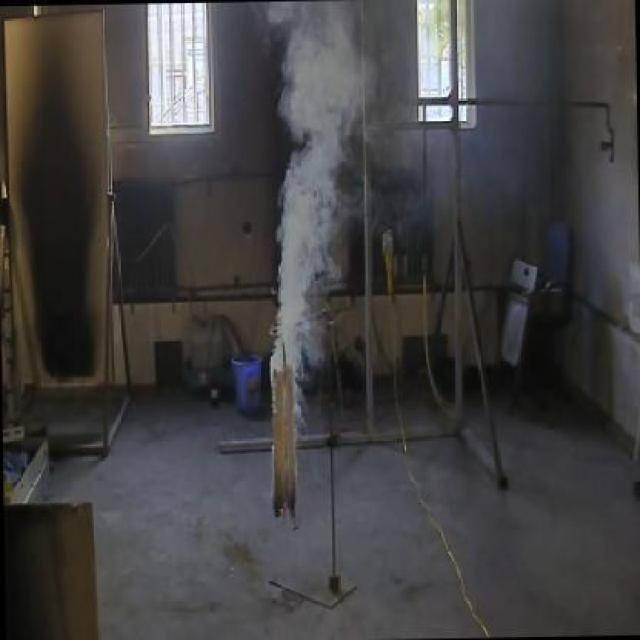fire: (253, 0, 372, 355)
